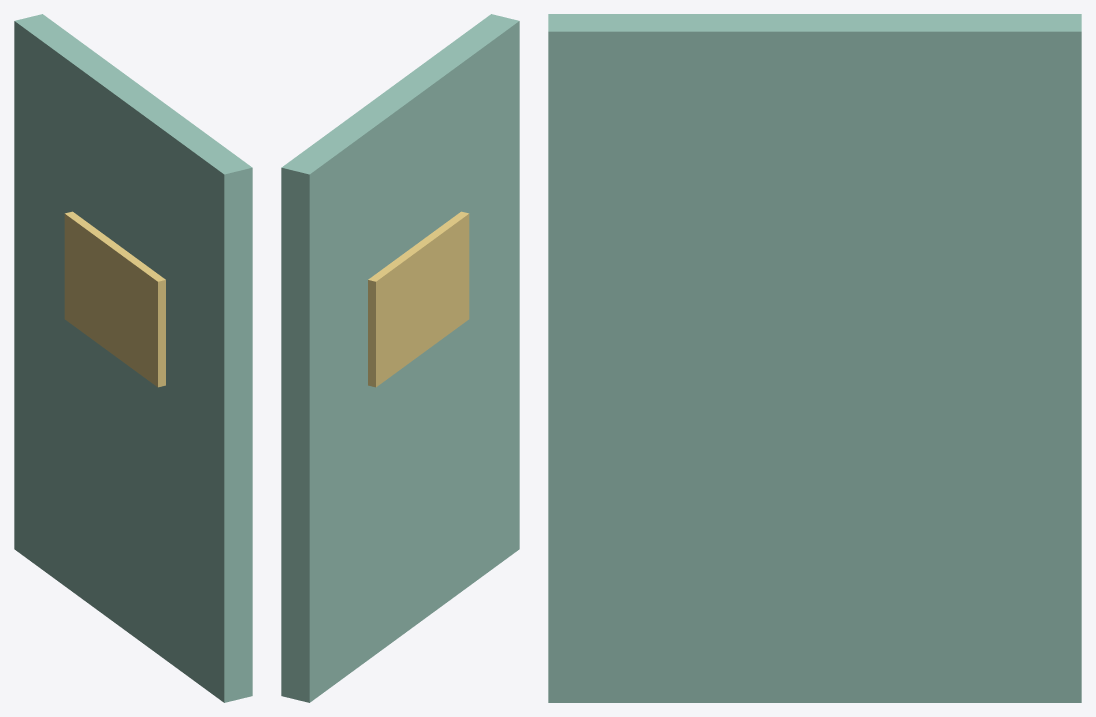
File: door.glb
The picture shows the model from 3 angles, left to right: view 1: azimuth 30°, elevation 25°; view 2: azimuth 150°, elevation 25°; view 3: azimuth 270°, elevation 25°; orthographic projection. The views are drawn at different scales.
Parts seen in each view (by area): view 1: closed future doorway, door sign; view 2: closed future doorway, door sign; view 3: closed future doorway.
Boxes of the visible parts, x1=… form: closed future doorway: x1=14, y1=14, x2=252, y2=702; door sign: x1=64, y1=211, x2=165, y2=387; closed future doorway: x1=281, y1=14, x2=519, y2=702; door sign: x1=368, y1=211, x2=469, y2=387; closed future doorway: x1=548, y1=14, x2=1081, y2=702.
Bounding box in the file's own units: 0.18 × 2.5 × 1.8.
